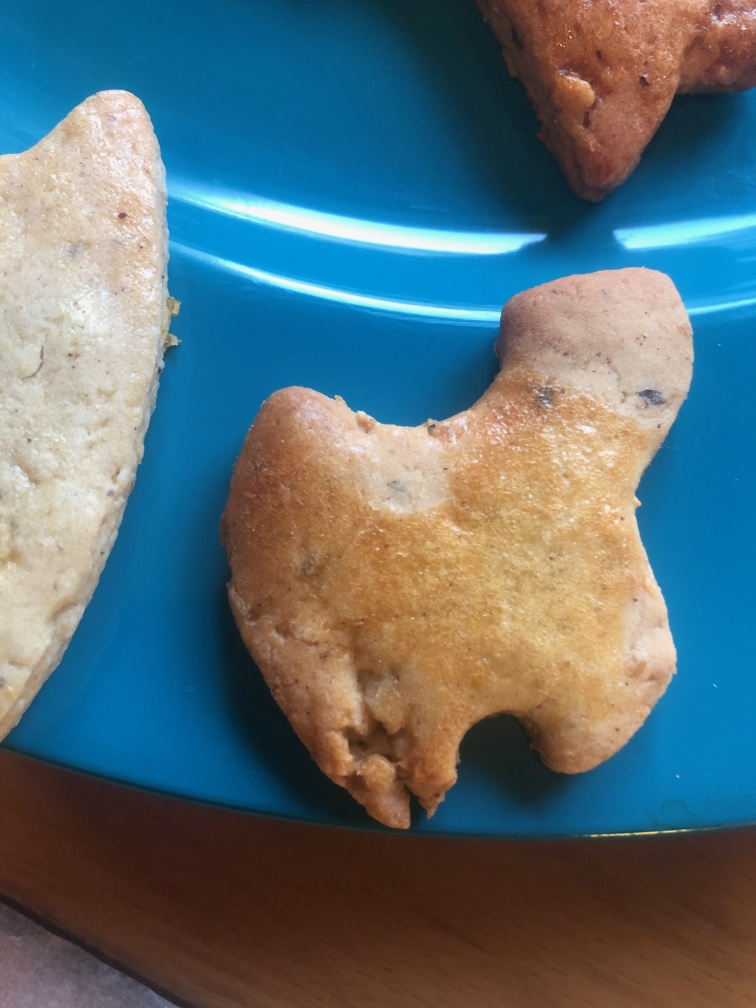lamb: (225, 265, 695, 834)
